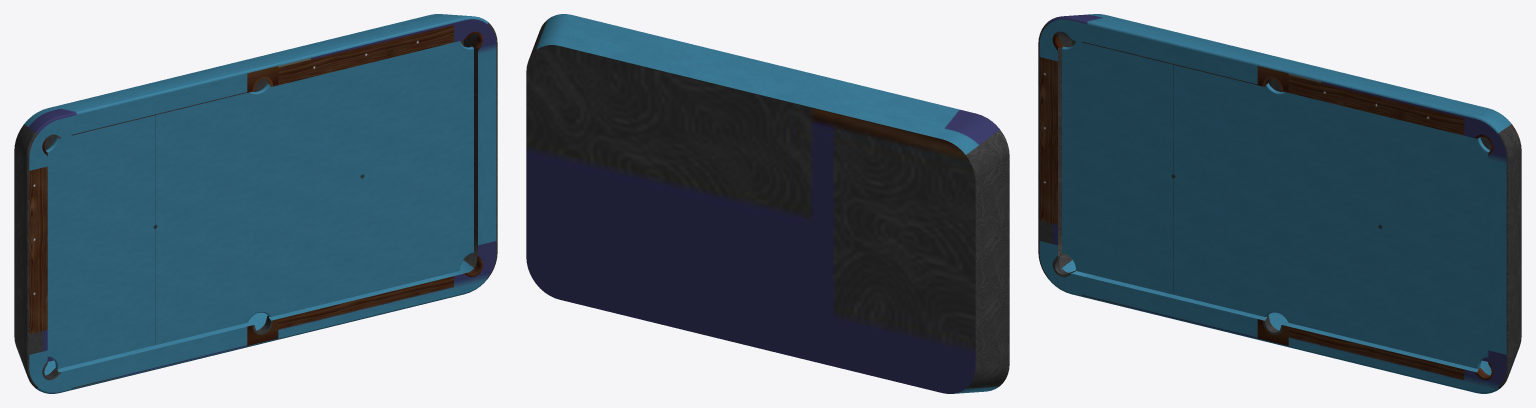
The model's file is pooltable.obj.
3 views of the same model, side by side, from view 1: azimuth 30°, elevation 25°; view 2: azimuth 150°, elevation 25°; view 3: azimuth 330°, elevation 25° (orthographic).
Size of the model in its own units: 2.9 by 1.63 by 0.254.
Materials: 5 (5 with a texture image).
